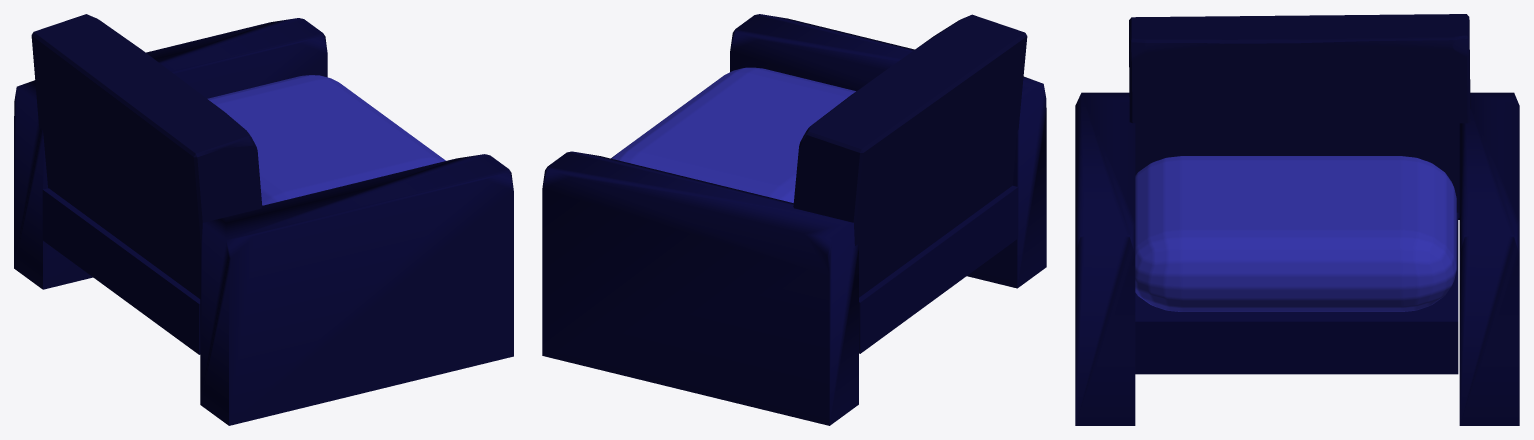
File: comfychair.fbx
3 views of the same model, side by side, from view 1: azimuth 30°, elevation 25°; view 2: azimuth 150°, elevation 25°; view 3: azimuth 270°, elevation 25° (orthographic). The views are drawn at different scales.
Visible parts, largest first — view 1: pCube2, pCube3, pasted__pasted__pCube4, pasted__pCube2, pCube1; view 2: pasted__pCube2, pCube3, pasted__pasted__pCube4, pCube2, pCube1; view 3: pasted__pasted__pCube4, pCube3, pCube1, pCube2, pasted__pCube2.
Boxes of the visible parts, bbox=[...] form: pCube2: bbox=[200, 154, 513, 425]; pCube3: bbox=[31, 14, 262, 298]; pasted__pasted__pCube4: bbox=[207, 75, 445, 205]; pasted__pCube2: bbox=[14, 18, 327, 289]; pCube1: bbox=[42, 188, 200, 354]; pasted__pCube2: bbox=[542, 151, 858, 425]; pCube3: bbox=[793, 14, 1027, 297]; pasted__pasted__pCube4: bbox=[611, 67, 855, 202]; pCube2: bbox=[730, 14, 1046, 288]; pCube1: bbox=[859, 185, 1018, 353]; pasted__pasted__pCube4: bbox=[1135, 156, 1456, 311]; pCube3: bbox=[1129, 14, 1470, 219]; pCube1: bbox=[1135, 212, 1458, 374]; pCube2: bbox=[1075, 92, 1135, 425]; pasted__pCube2: bbox=[1459, 92, 1519, 425].
Size of the model in its own units: 5.96 by 5.09 by 7.57.
